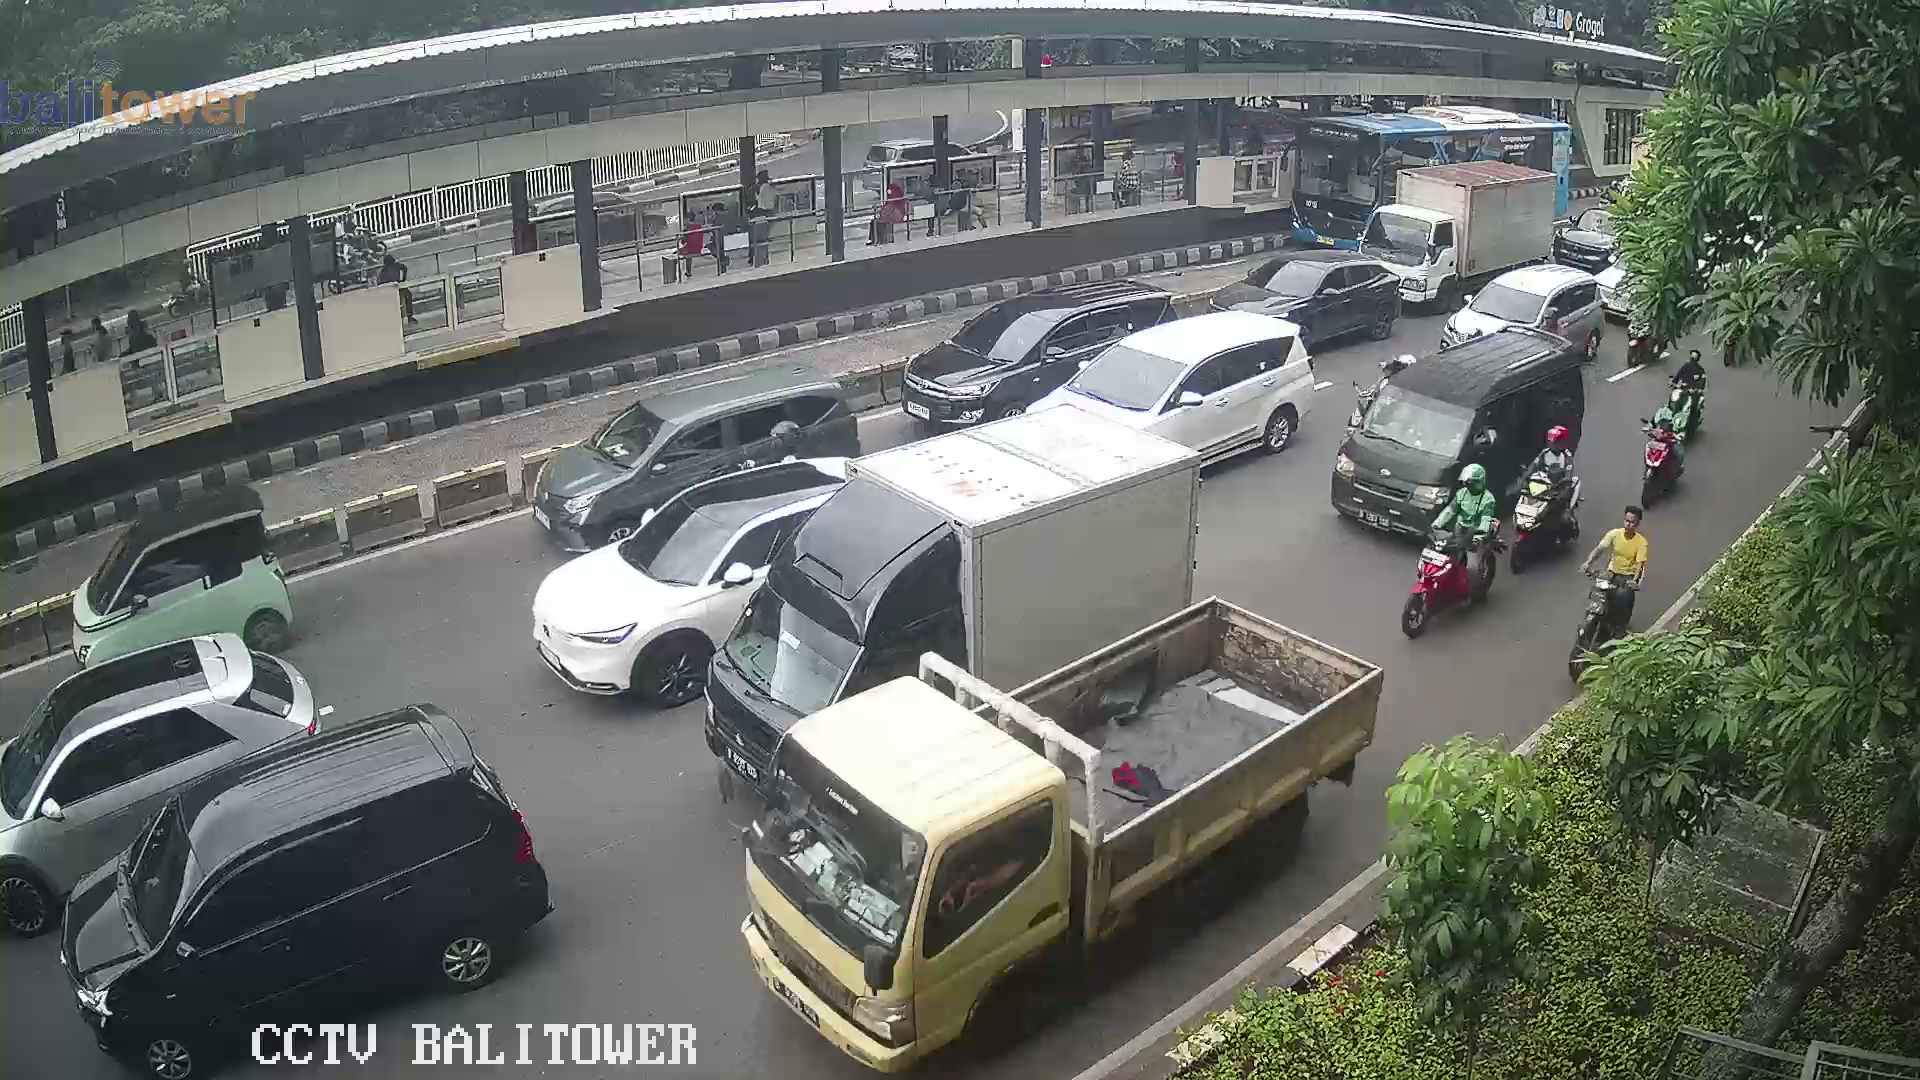half-face helmet: (1451, 461, 1492, 502), (1543, 420, 1576, 461)
no helmet: (1617, 496, 1647, 555)
